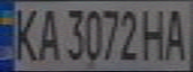0: (81, 6, 106, 61)
2: (118, 6, 142, 61)
3: (60, 5, 87, 62)
7: (103, 6, 121, 61)
A: (160, 5, 193, 62), (33, 5, 63, 62)
H: (136, 5, 172, 62)
K: (6, 3, 42, 63)
